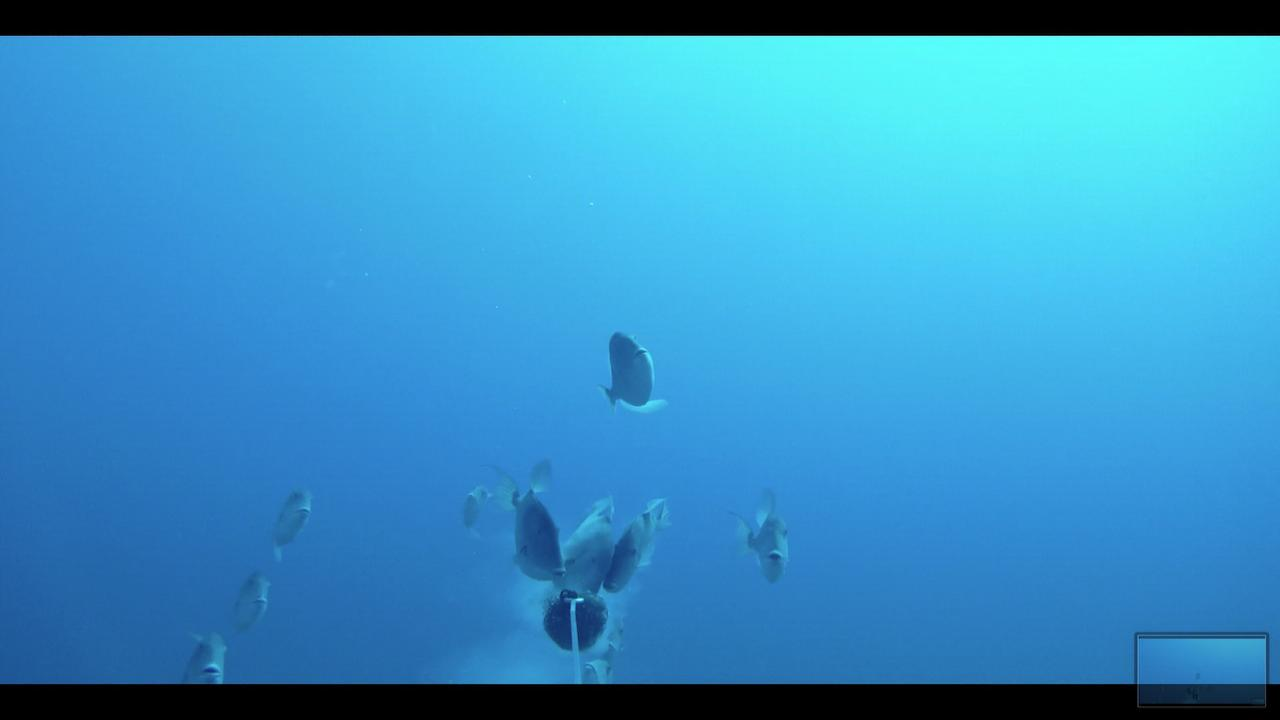balistes: (486, 448, 575, 589), (601, 498, 686, 604), (587, 325, 677, 424), (730, 483, 794, 587), (262, 477, 323, 558), (172, 624, 247, 683), (221, 567, 284, 635)
